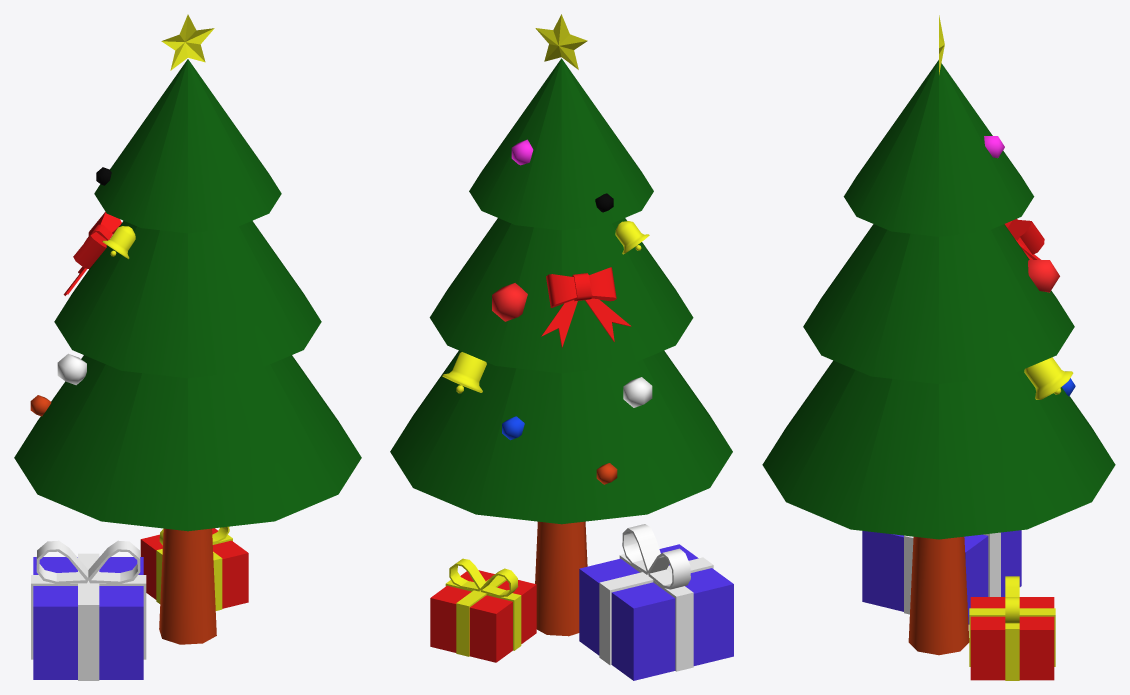
File: Cay thong.FBX
3 views of the same model, side by side, from view 1: azimuth 30°, elevation 25°; view 2: azimuth 150°, elevation 25°; view 3: azimuth 270°, elevation 25° (orthographic). The views are drawn at different scales.
Parts seen in each view (by area): view 1: cay thong noel; view 2: cay thong noel; view 3: cay thong noel.
Part boxes in pixels (<box>): cay thong noel: <box>14,14,361,680</box>; cay thong noel: <box>390,14,733,680</box>; cay thong noel: <box>762,15,1115,680</box>.
Bounding box in the file's own units: 3.43 × 6.43 × 3.28.
